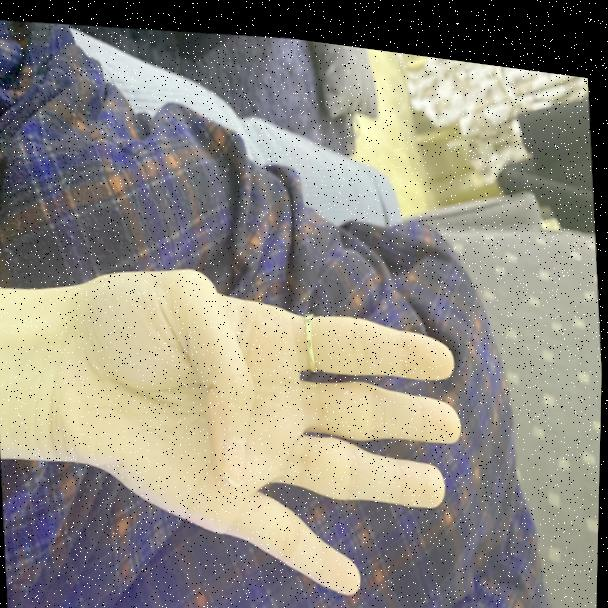four: (38, 216, 478, 608)
